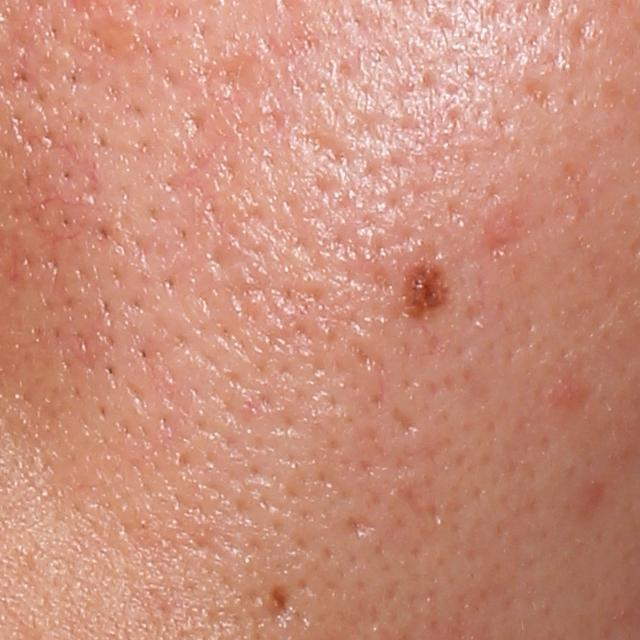atrophic_scar: (393, 475, 446, 528), (289, 129, 355, 170), (526, 78, 565, 116), (569, 4, 600, 45), (385, 402, 419, 433), (347, 517, 379, 539)
nevus: (398, 255, 453, 320), (266, 581, 292, 624)
